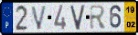2: (15, 4, 29, 32)
4: (53, 4, 68, 31)
6: (109, 4, 123, 31)
R: (89, 5, 108, 31)
V: (30, 5, 48, 31), (69, 5, 86, 32)
